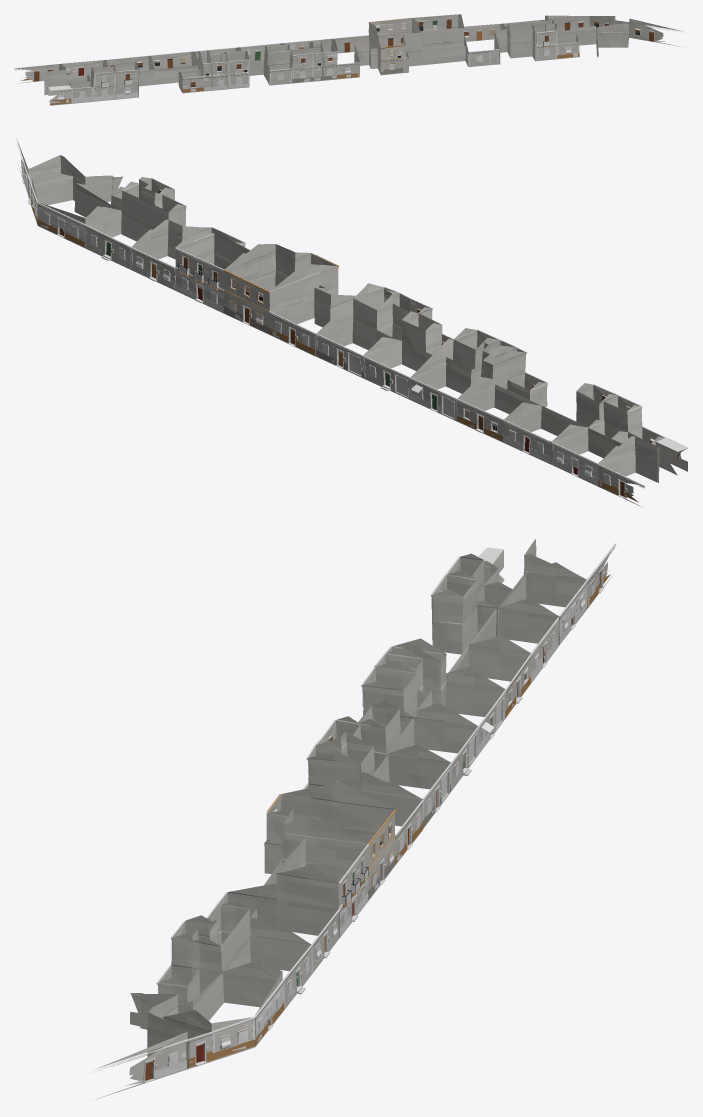
The model's file is zona_-1_1.glb.
The picture shows the model from 3 angles, top to bottom: view 1: azimuth 30°, elevation 25°; view 2: azimuth 150°, elevation 25°; view 3: azimuth 270°, elevation 25°; orthographic projection. The views are drawn at different scales.
Parts seen in each view (by area): view 1: z_casas_-1_1, z_fachadas_-1_1, z_casas_planas_-1_1; view 2: z_casas_-1_1, z_fachadas_-1_1, z_casas_planas_-1_1; view 3: z_casas_-1_1, z_fachadas_-1_1.
Boxes of the visible parts, box(x1,y1,x2,y2) form: z_casas_-1_1: box(15, 14, 681, 103); z_fachadas_-1_1: box(14, 14, 682, 104); z_casas_planas_-1_1: box(48, 85, 71, 105); z_casas_-1_1: box(17, 139, 664, 507); z_fachadas_-1_1: box(15, 138, 687, 502); z_casas_planas_-1_1: box(655, 438, 687, 475); z_casas_-1_1: box(95, 539, 612, 1099); z_fachadas_-1_1: box(93, 543, 616, 1085).
Size of the model in its own units: 135 by 8.91 by 56.83.
